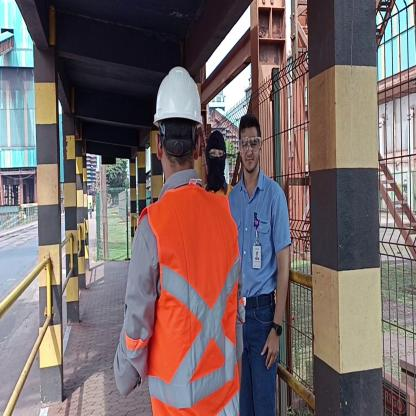Balaclava: (204, 128, 228, 188)
Capacete: (154, 66, 201, 122)
colete: (141, 200, 242, 416)
